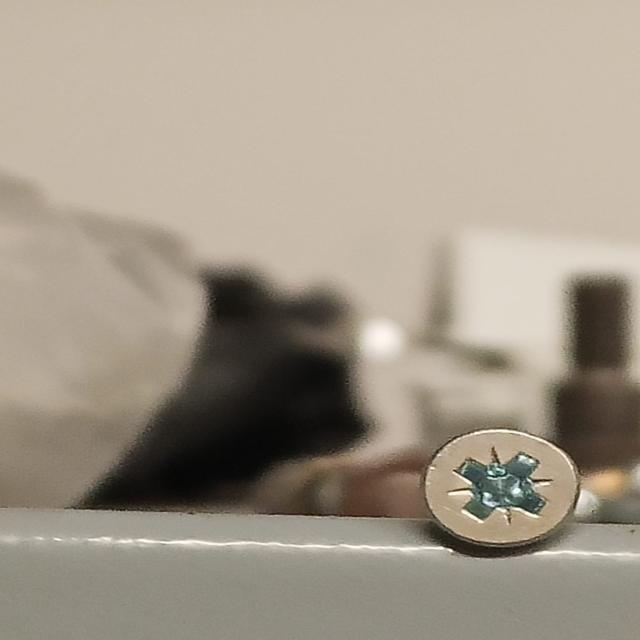pozidriv: (422, 427, 578, 550)
